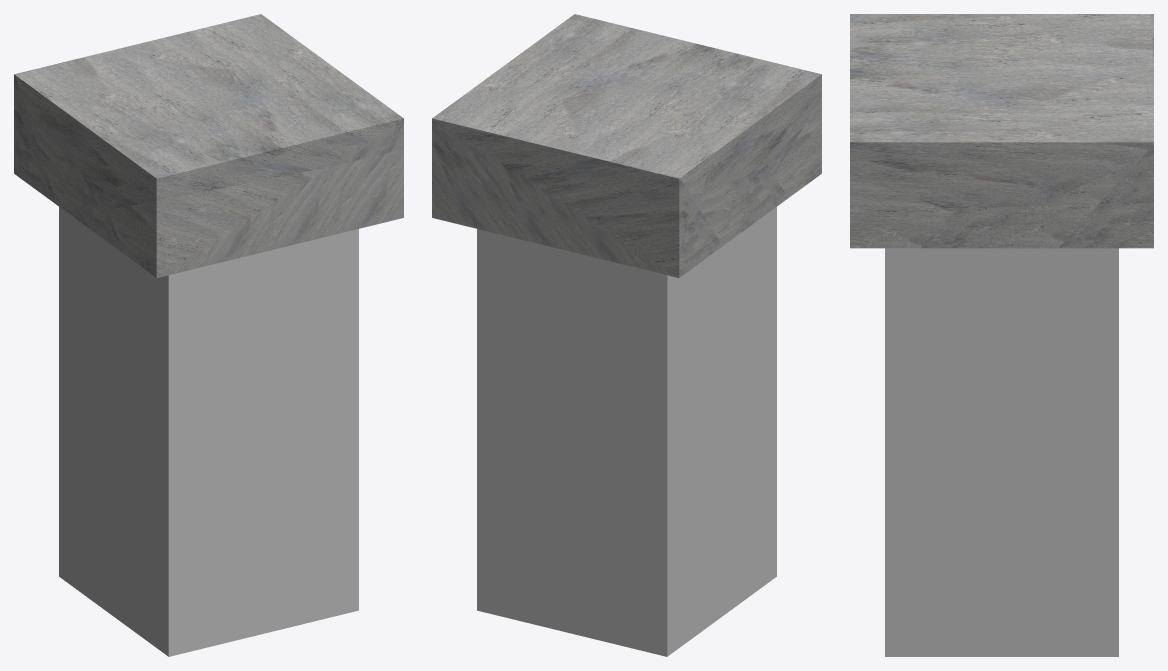
The model's file is GoblinWall1.fbx.
3 views of the same model, side by side, from view 1: azimuth 30°, elevation 25°; view 2: azimuth 150°, elevation 25°; view 3: azimuth 270°, elevation 25° (orthographic). The views are drawn at different scales.
Visible parts, largest first — view 1: Goblin_tiles; view 2: Goblin_tiles; view 3: Goblin_tiles.
Part boxes in pixels (<box>): Goblin_tiles: <box>14,14,403,656</box>; Goblin_tiles: <box>432,14,821,656</box>; Goblin_tiles: <box>850,14,1153,656</box>.
Size of the model in its own units: 260 by 500 by 260.
